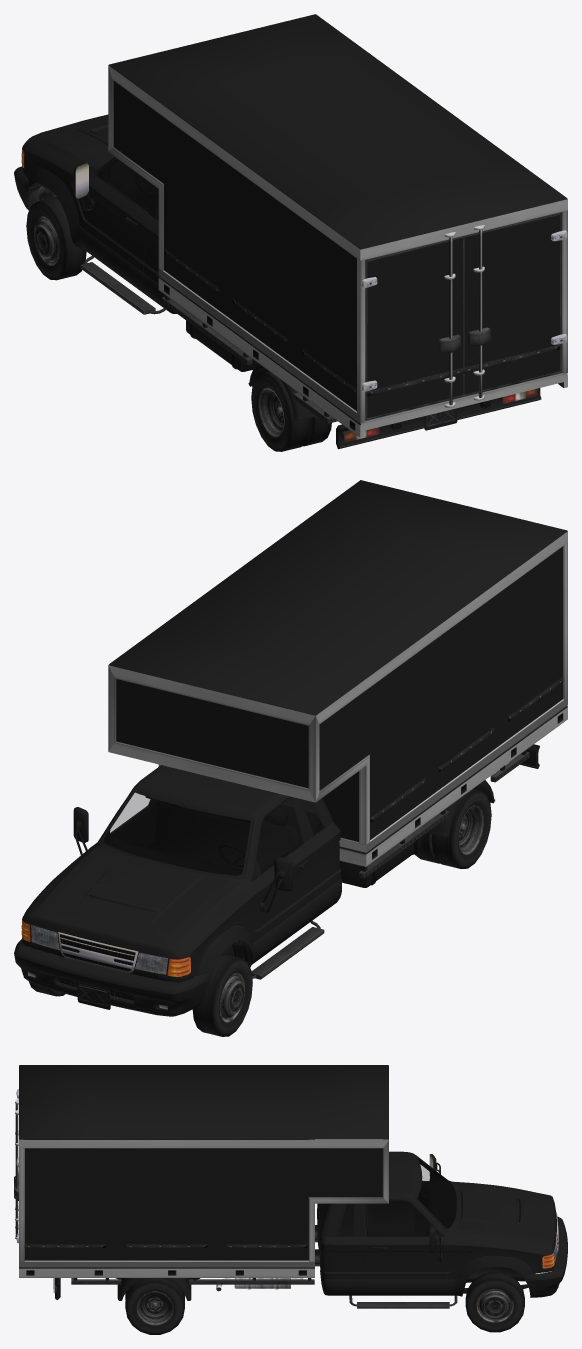
File: box_truck.glb
The picture shows the model from 3 angles, top to bottom: view 1: azimuth 30°, elevation 25°; view 2: azimuth 150°, elevation 25°; view 3: azimuth 270°, elevation 25°; orthographic projection. The views are drawn at different scales.
Parts seen in each view (by area): view 1: body, wheel_FL, wheel_RL; view 2: body, wheel_FL, wheel_RL; view 3: body, wheel_FR, wheel_RR.
Boxes of the visible parts, bbox=[...] form: body: bbox=[14, 14, 567, 449]; wheel_FL: bbox=[22, 147, 169, 314]; wheel_RL: bbox=[207, 315, 355, 451]; body: bbox=[14, 480, 567, 1016]; wheel_FL: bbox=[134, 848, 377, 1036]; wheel_RL: bbox=[415, 713, 563, 868]; body: bbox=[14, 1065, 567, 1308]; wheel_FR: bbox=[298, 1251, 554, 1332]; wheel_RR: bbox=[26, 1270, 289, 1334].
Size of the model in its own units: 1.57 by 1.85 by 4.7.
Materials: 9 (6 with a texture image).
